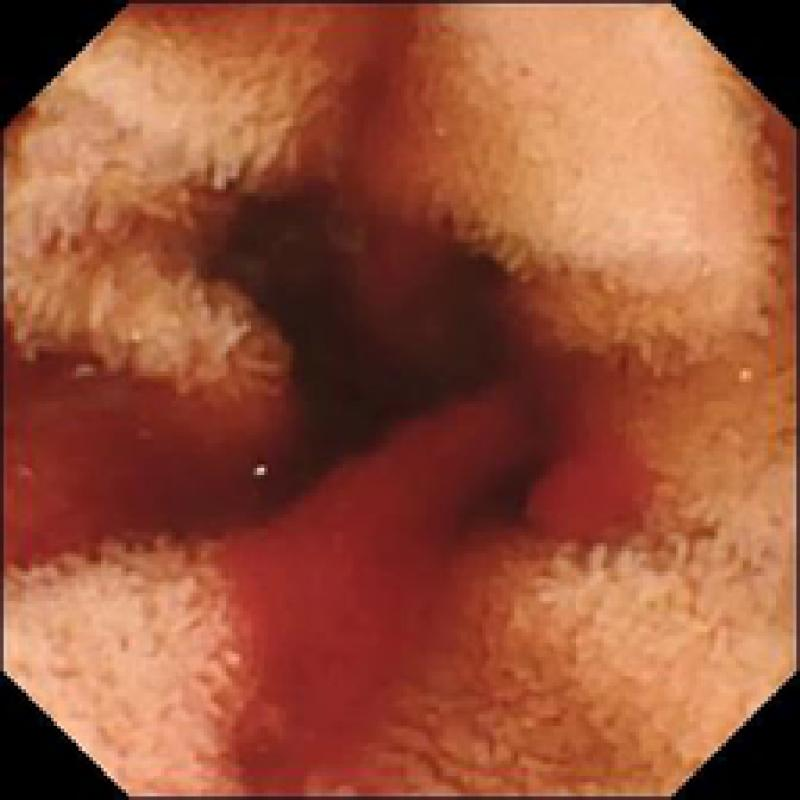bleeding: (218, 385, 650, 800)
